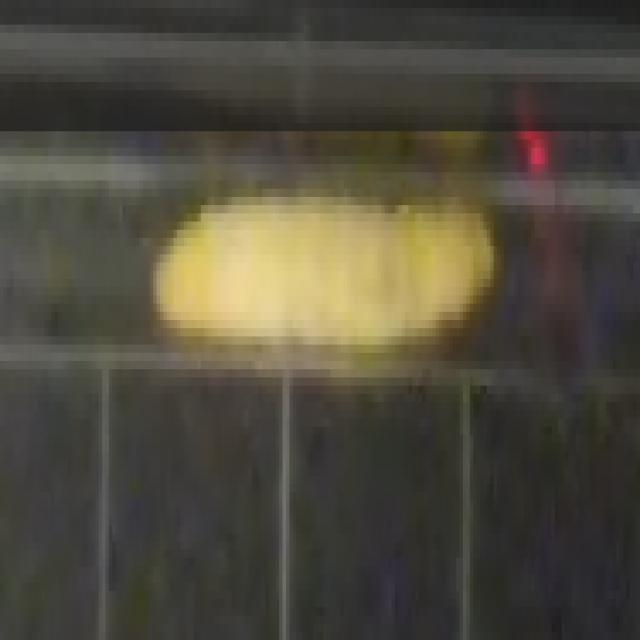larva: (148, 166, 498, 360)
